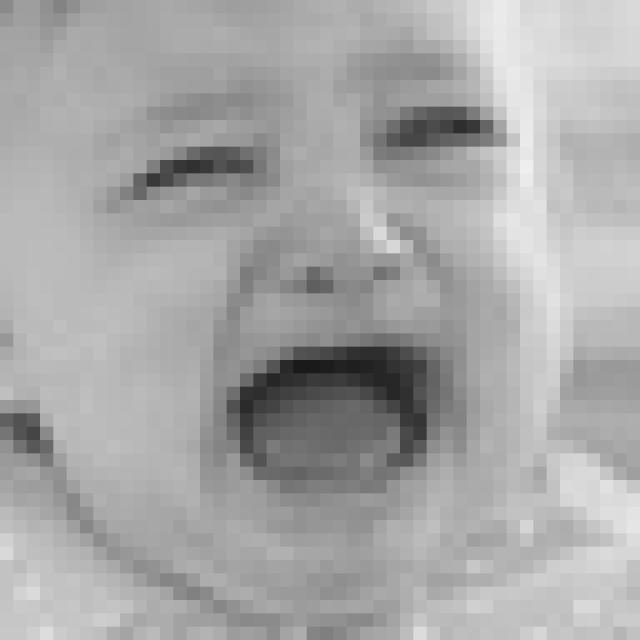sad: (93, 68, 519, 530)
